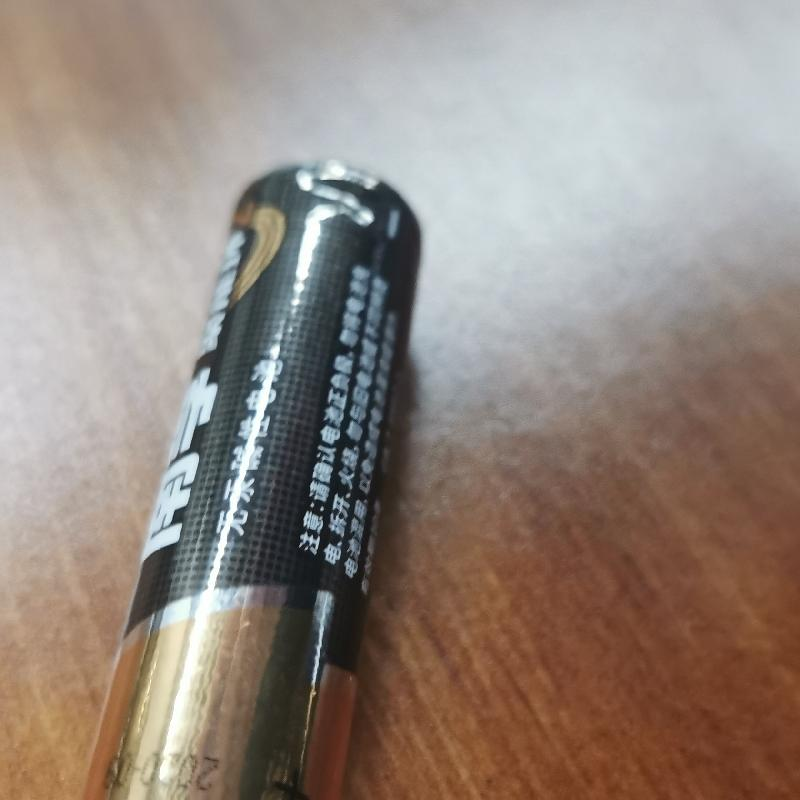battery: (87, 159, 427, 799)
